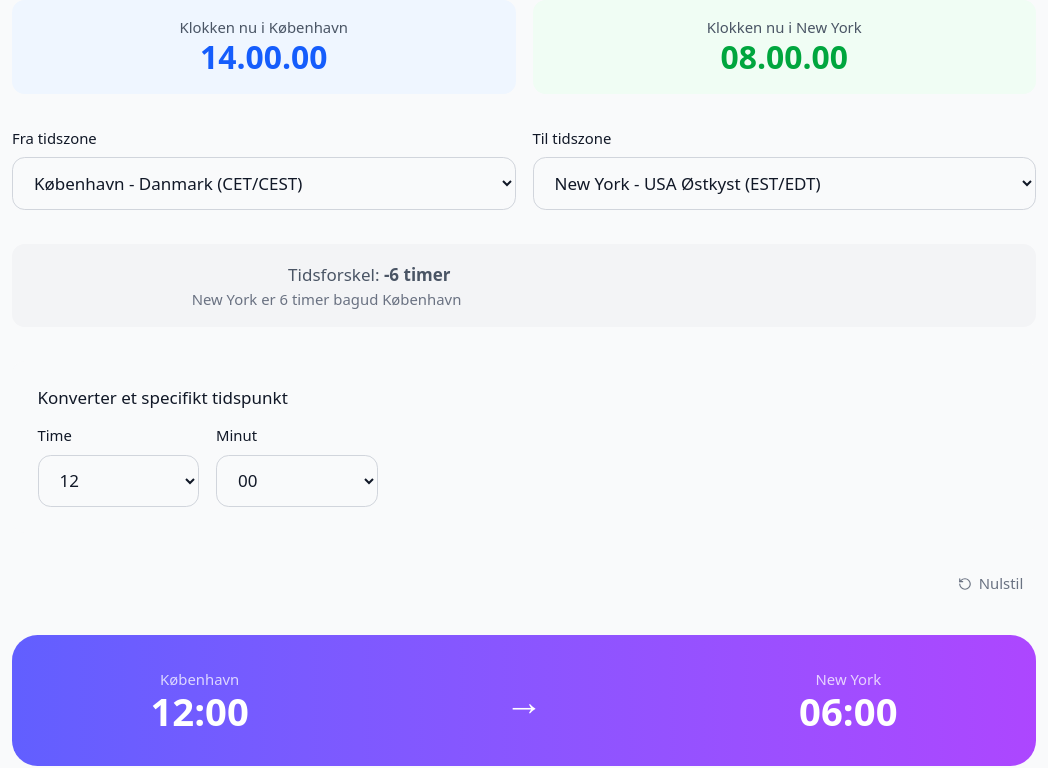
tidsforskellen og den delte tekst i TidszoneBeregner › et brudtal skrives med komma på alle tre steder, ikke med punktum
This screenshot has width=1048, height=768.
Select "Mumbai - Indien (IST)" in the dropdown labelled "Til tidszone": coordinates (784, 184) [532,157,1036,210]
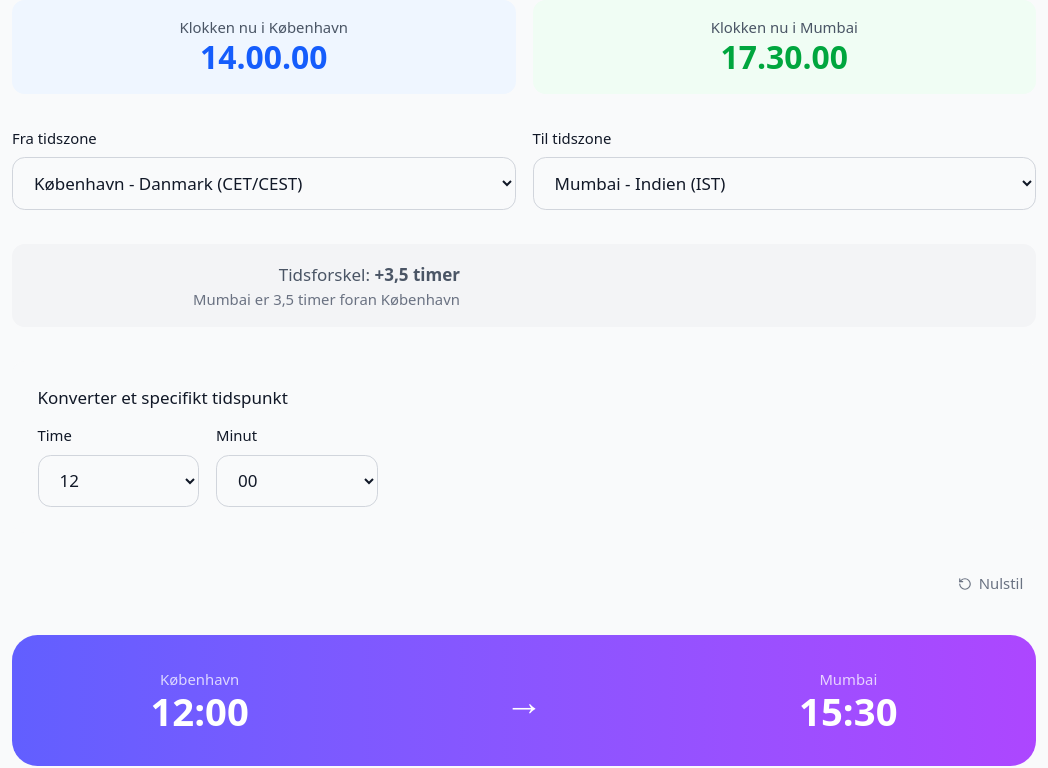
Now the text "Mumbai er 3,5 timer foran København" is shown, box [193,289,460,309]
Now the text "+3,5 timer" is shown, box [374,263,460,286]
